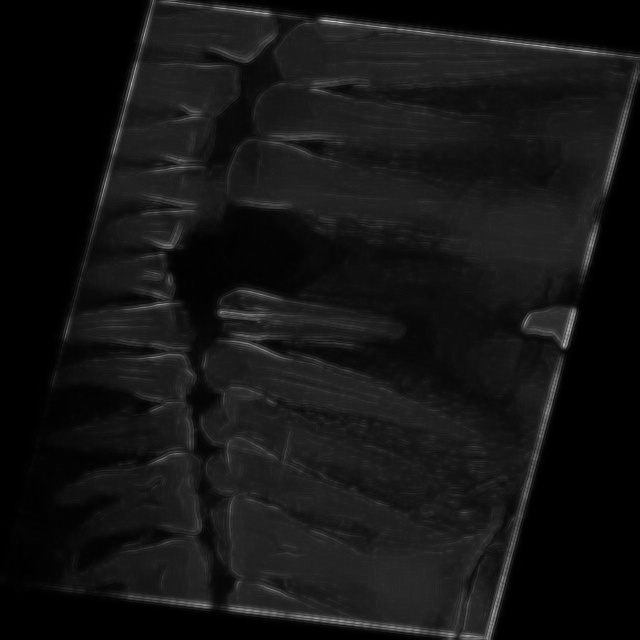Class 1- complete endodontic treatment: (202, 259, 469, 378)
